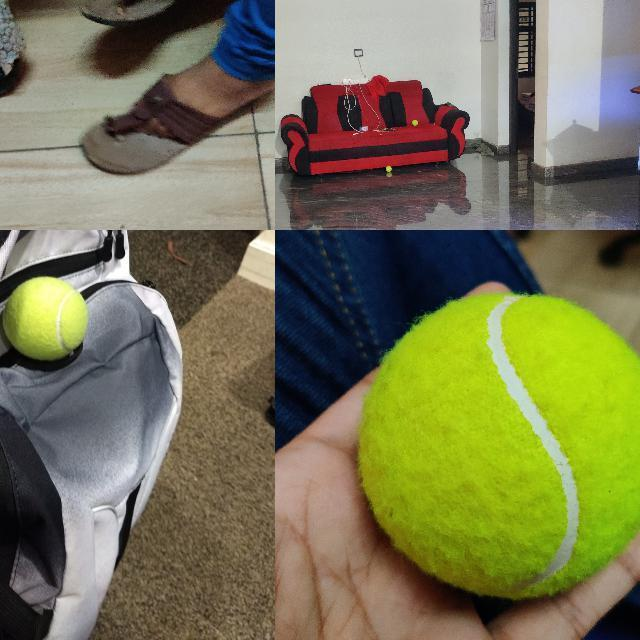tennis-ball: (358, 292, 639, 600), (2, 276, 88, 361), (412, 119, 418, 125), (385, 166, 391, 172)
